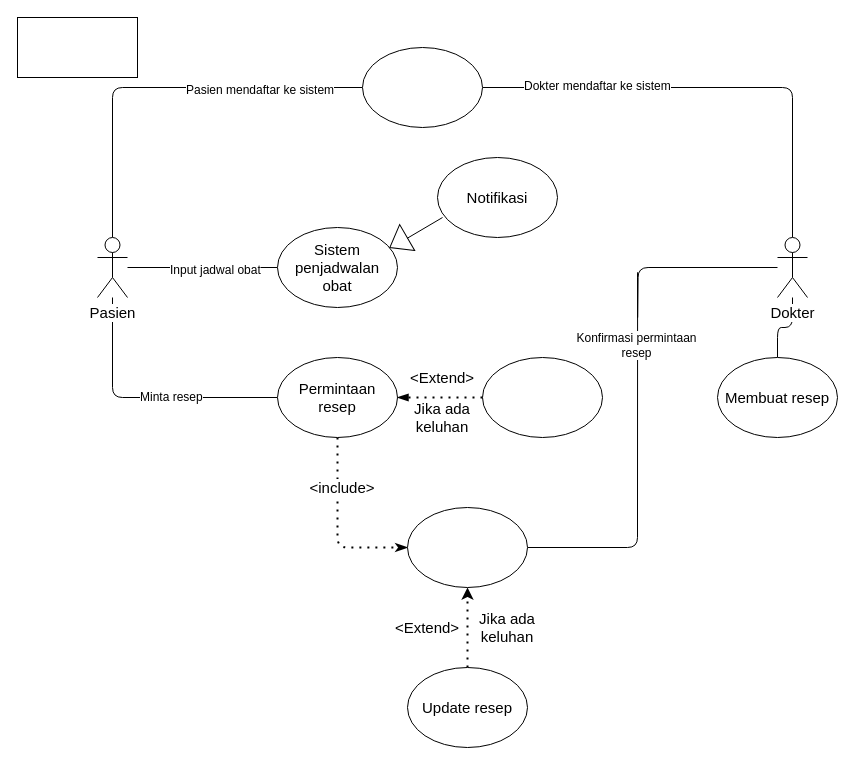
This 855x765 diagram has some shape labels left out. The shapes that lost their labels are listed below. From the top down, each one's box as (x1, y1, x2, y2) in pixels, then its label:
(16, 16, 138, 78): Use Case Diagram
(362, 46, 482, 128): Daftar
(482, 356, 602, 438): Keluhan
(406, 506, 528, 588): Sistem permintaan resep
